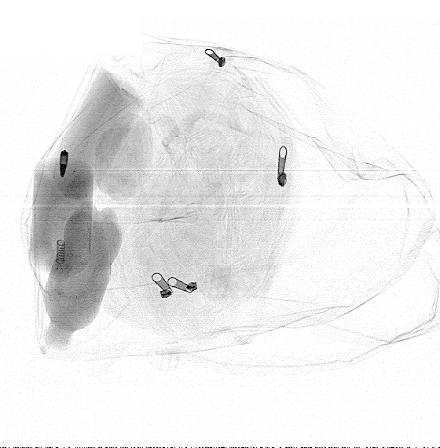Bullet: (59, 148, 69, 178)
